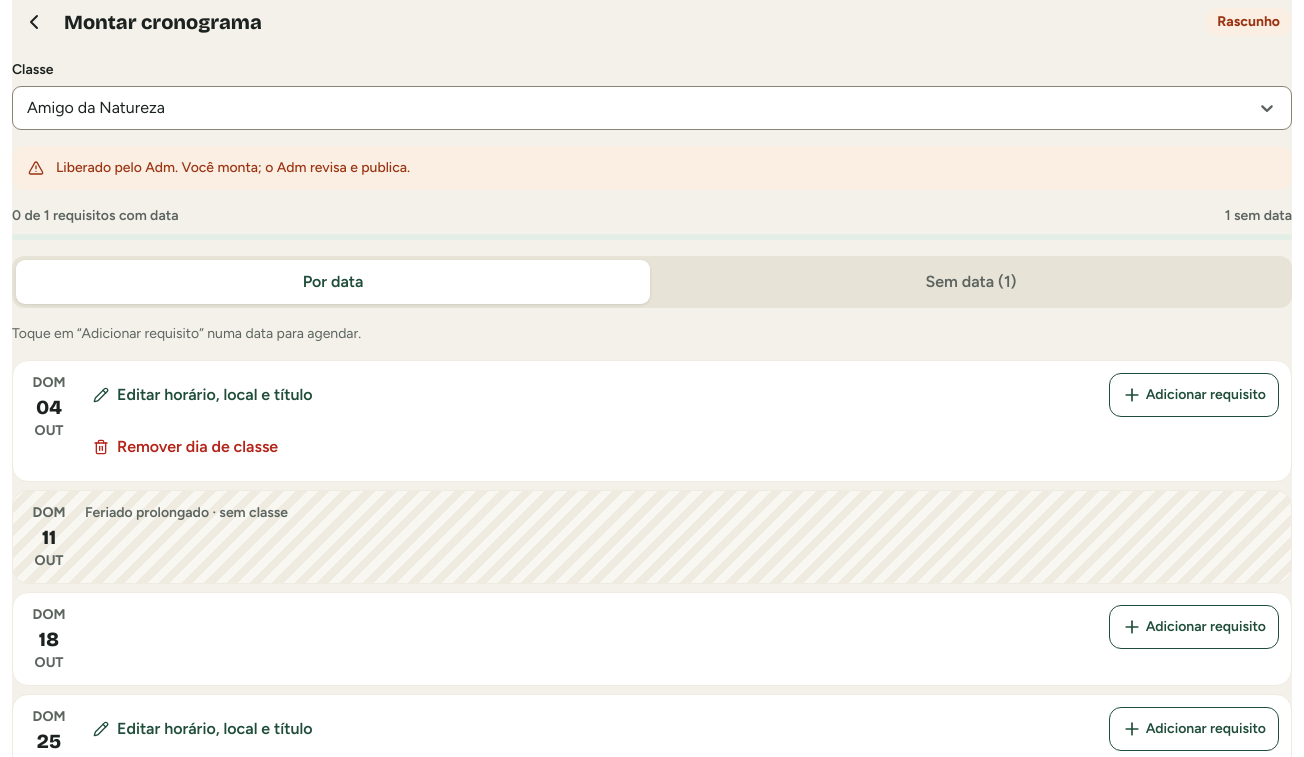
Test case: Regular e avançada · regular inativa › instrutor: ?classe=<avançada> abre a avançada e o seletor oferece as duas como itens próprios
The image size is (1304, 757).
Click the dropdown labelled "Classe".
click(29, 108)  # box [27,96,31,120]
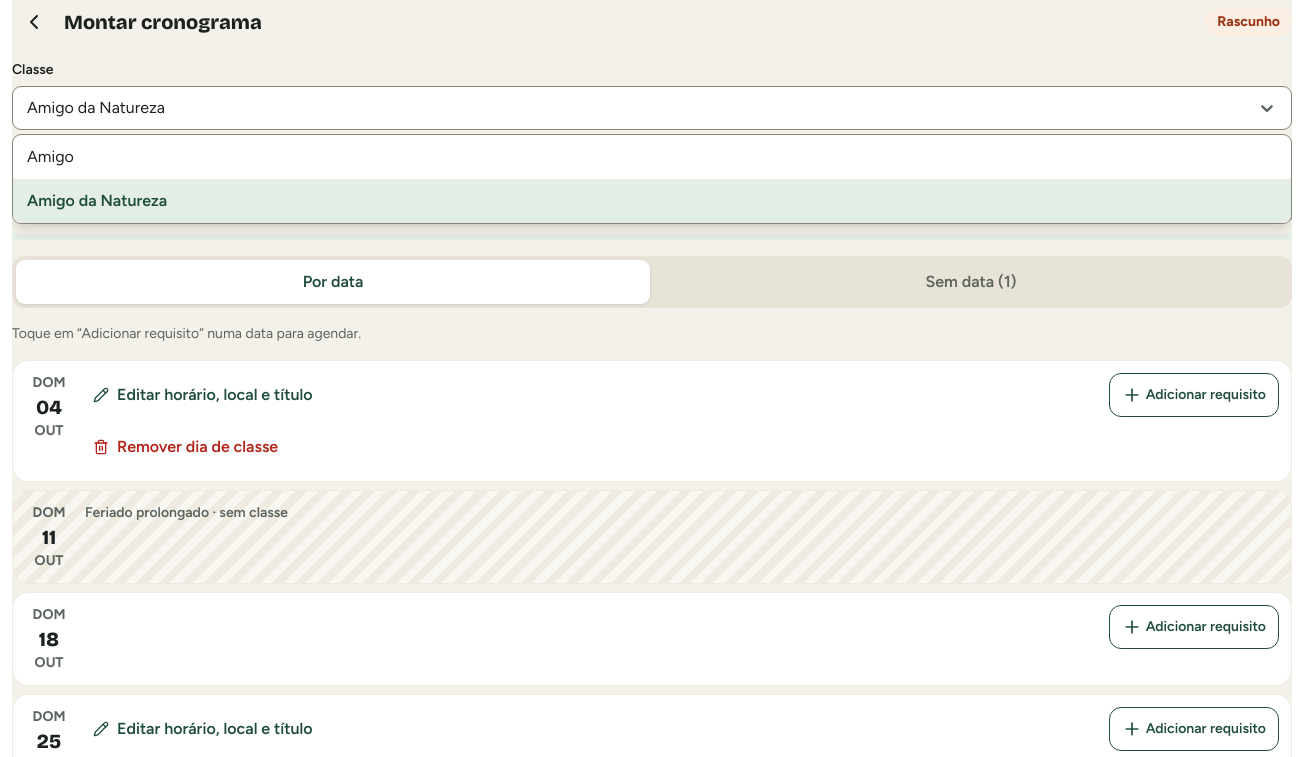
Result: the options read "Amigo", "Amigo da Natureza", in this order at [27,147,74,166]; [13,179,1291,223]
